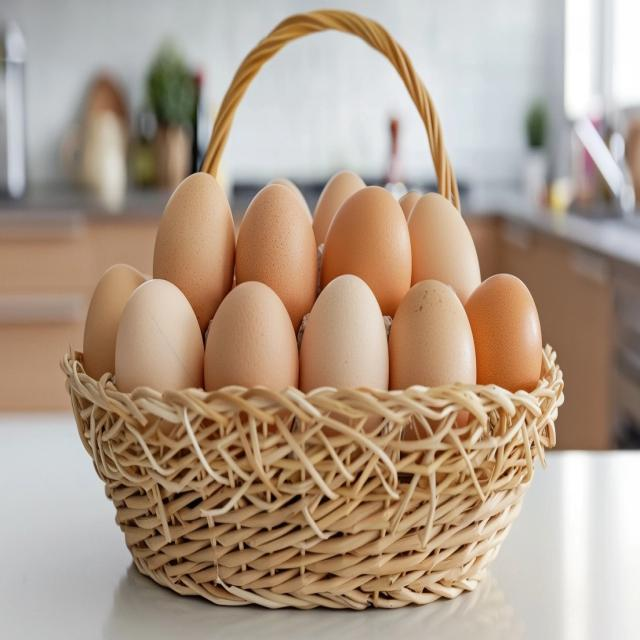huevos: (156, 161, 230, 314)
